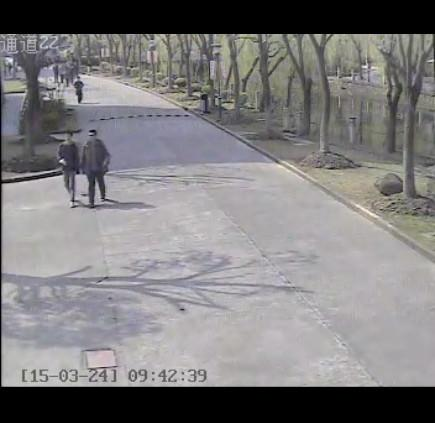person: (79, 127, 114, 209), (55, 128, 81, 209), (71, 72, 86, 106)
